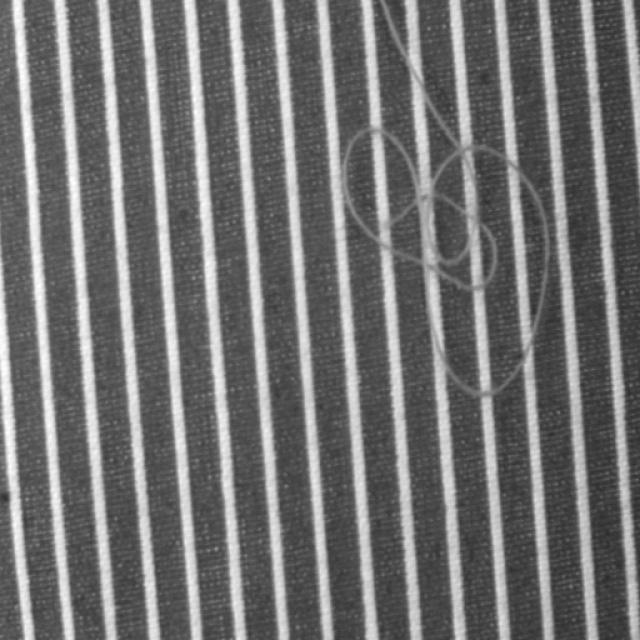Foreign-Body-Defect: (331, 0, 550, 400)
